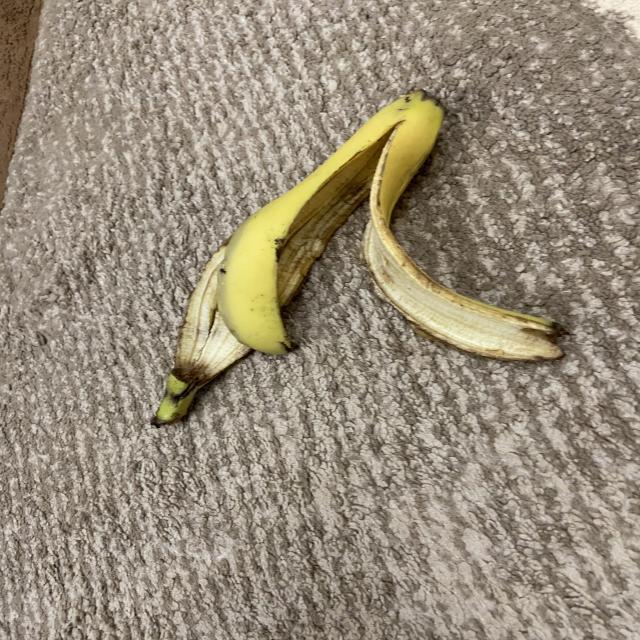banana-peel: (149, 86, 569, 427), (360, 99, 570, 362)
